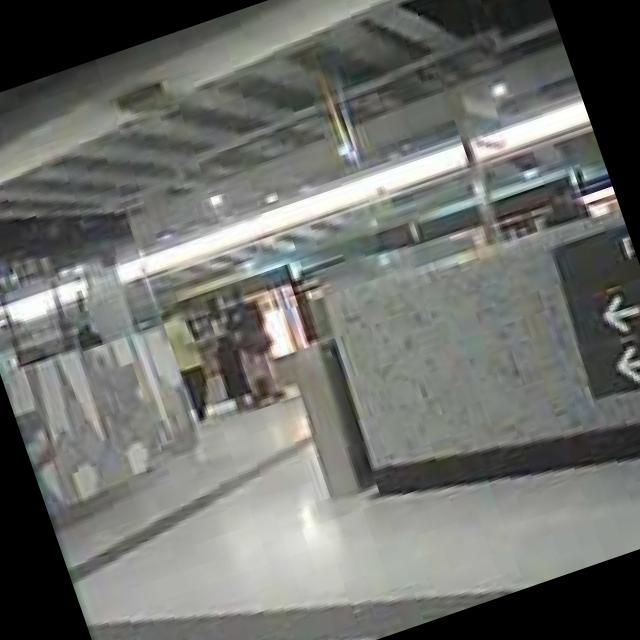person: (214, 276, 296, 409), (157, 300, 225, 426), (197, 294, 260, 414)
